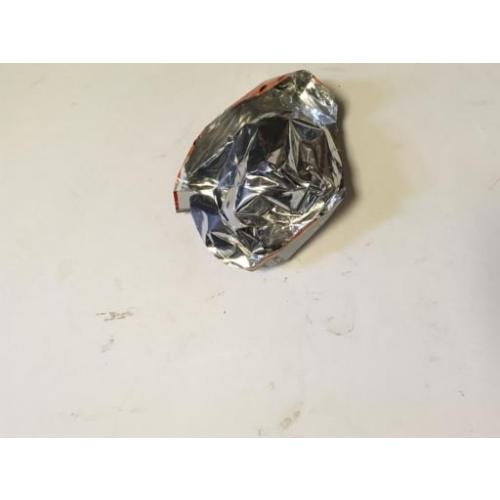plastic: (179, 70, 344, 271)
